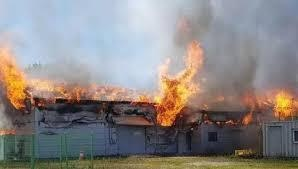fire: (134, 38, 207, 127), (202, 85, 298, 126)
